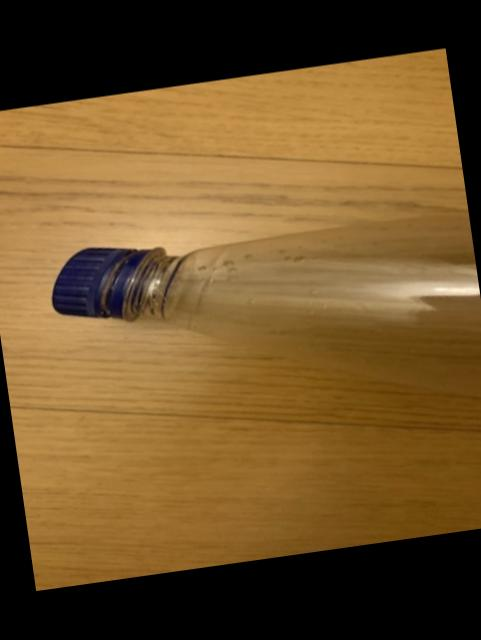plastic: (52, 216, 481, 402)
